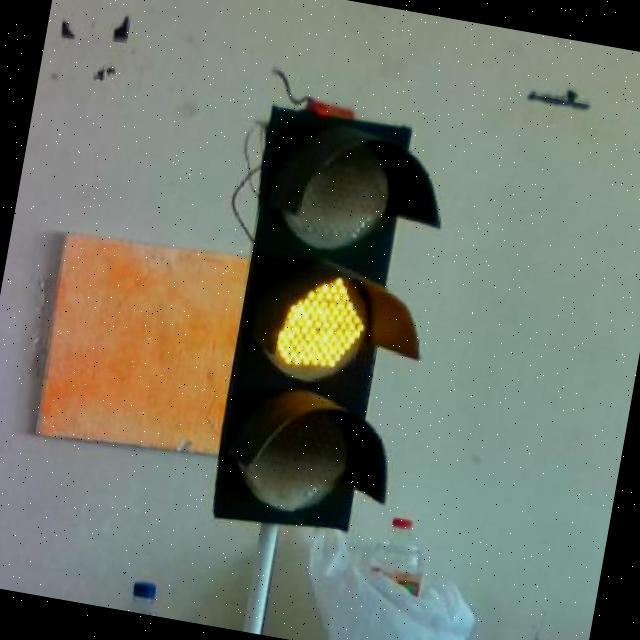yellow_light: (202, 107, 449, 540)
